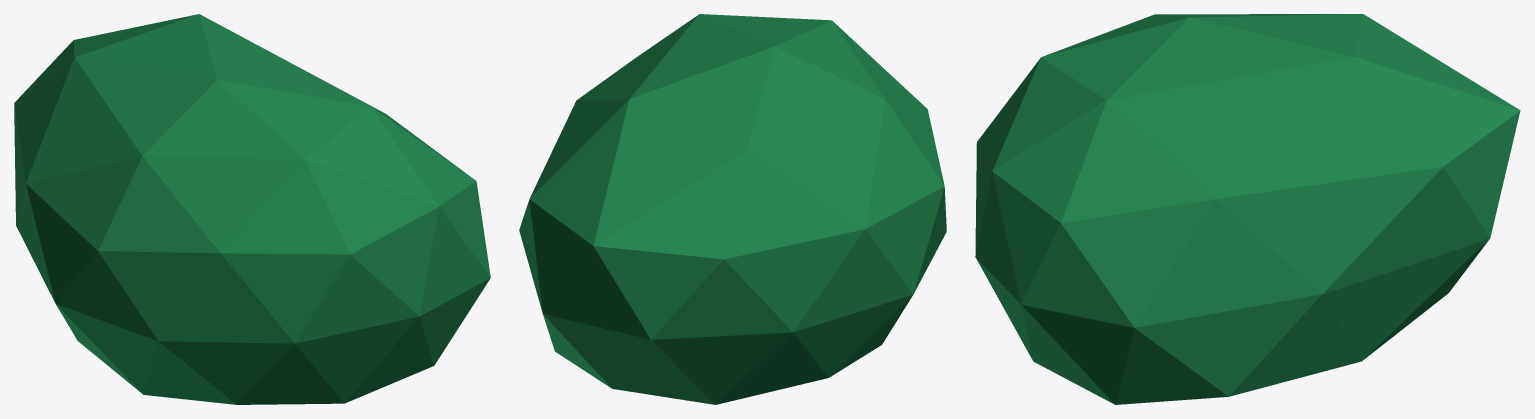
Rendered from bush.glb.
3 views of the same model, side by side, from view 1: azimuth 30°, elevation 25°; view 2: azimuth 150°, elevation 25°; view 3: azimuth 270°, elevation 25° (orthographic). The views are drawn at different scales.
Parts seen in each view (by area): view 1: bush-a; view 2: bush-a; view 3: bush-a.
Boxes of the visible parts, x1=… form: bush-a: x1=14, y1=14, x2=490, y2=404; bush-a: x1=519, y1=14, x2=946, y2=404; bush-a: x1=975, y1=14, x2=1520, y2=404.
Size of the model in its own units: 0.4132 by 0.2915 by 0.4958.
